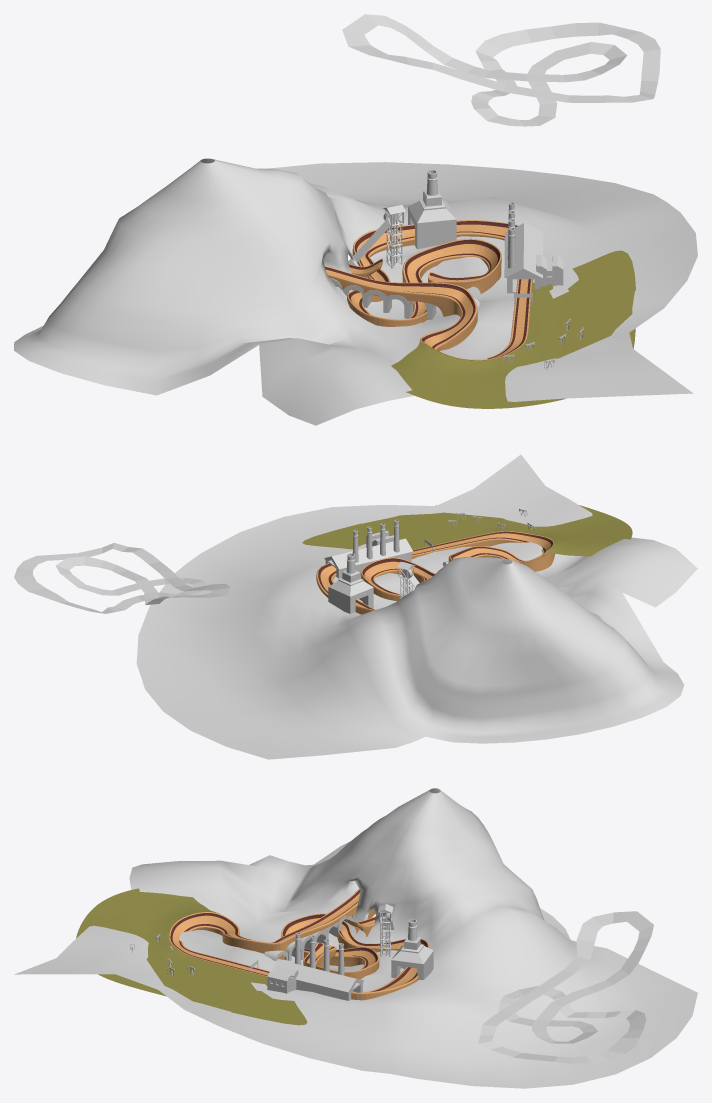
File: FR - boceto pista v3.fbx
3 renders of one model, top to bottom at view 1: azimuth 30°, elevation 25°; view 2: azimuth 150°, elevation 25°; view 3: azimuth 270°, elevation 25°, orthographic. The views are drawn at different scales.
Parts seen in each view (by area): view 1: Cone, Plane, Plane.001, Cube.002, Cube, Cube.001, Cube.008; view 2: Cone, Plane, Plane.001, Cube.002, Cube; view 3: Cone, Plane, Plane.001, Cube, Cube.002, Cube.001.
Boxes of the visible parts, x1,y1,x2,y2 form: Cone: (14, 158, 697, 425); Plane: (324, 220, 635, 408); Plane.001: (342, 14, 660, 126); Cube.002: (408, 190, 456, 249); Cube: (504, 223, 543, 293); Cube.001: (536, 255, 563, 286); Cube.008: (348, 204, 405, 265); Cone: (136, 454, 697, 759); Plane: (302, 505, 632, 614); Plane.001: (14, 542, 230, 613); Cube.002: (328, 570, 373, 613); Cube: (324, 538, 413, 578); Cone: (14, 788, 697, 1088); Plane: (76, 888, 429, 1025); Plane.001: (478, 911, 653, 1063); Cube: (272, 959, 364, 1000); Cube.002: (391, 937, 433, 979); Cube.001: (267, 965, 298, 993).
Size of the model in its own units: 5862 by 1326 by 5694.
